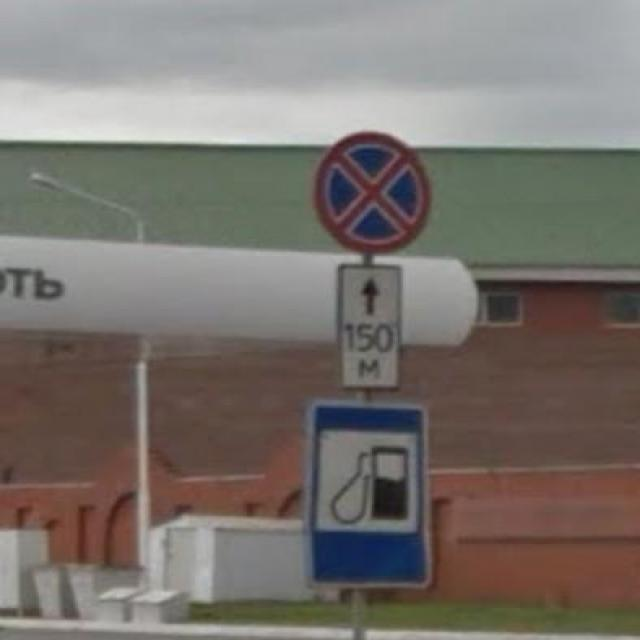Zakaz zatrzymywania sie: (310, 129, 434, 252)
